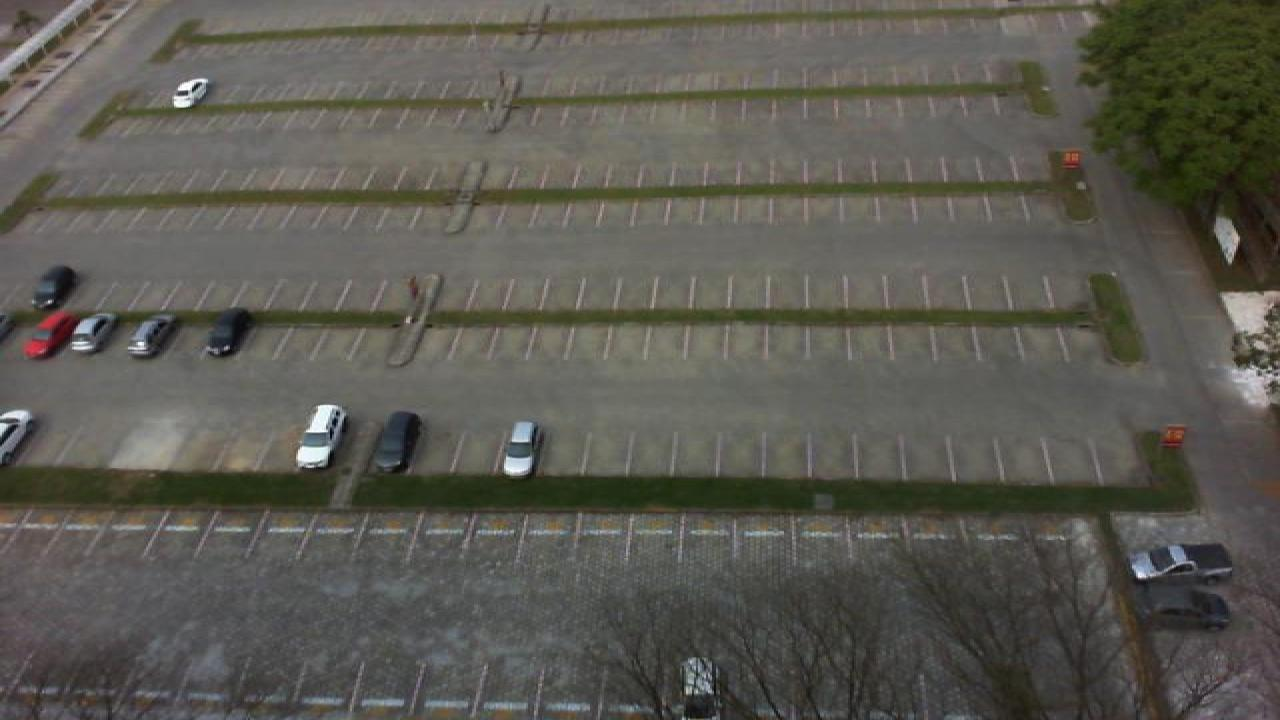Car: (1126, 541, 1234, 586), (1142, 586, 1232, 632), (294, 404, 348, 470), (372, 411, 422, 474), (22, 310, 80, 360), (680, 656, 722, 720), (204, 307, 252, 359), (500, 421, 542, 478), (124, 312, 176, 356), (30, 264, 76, 310), (68, 314, 118, 354), (0, 410, 34, 465), (170, 78, 208, 109)
